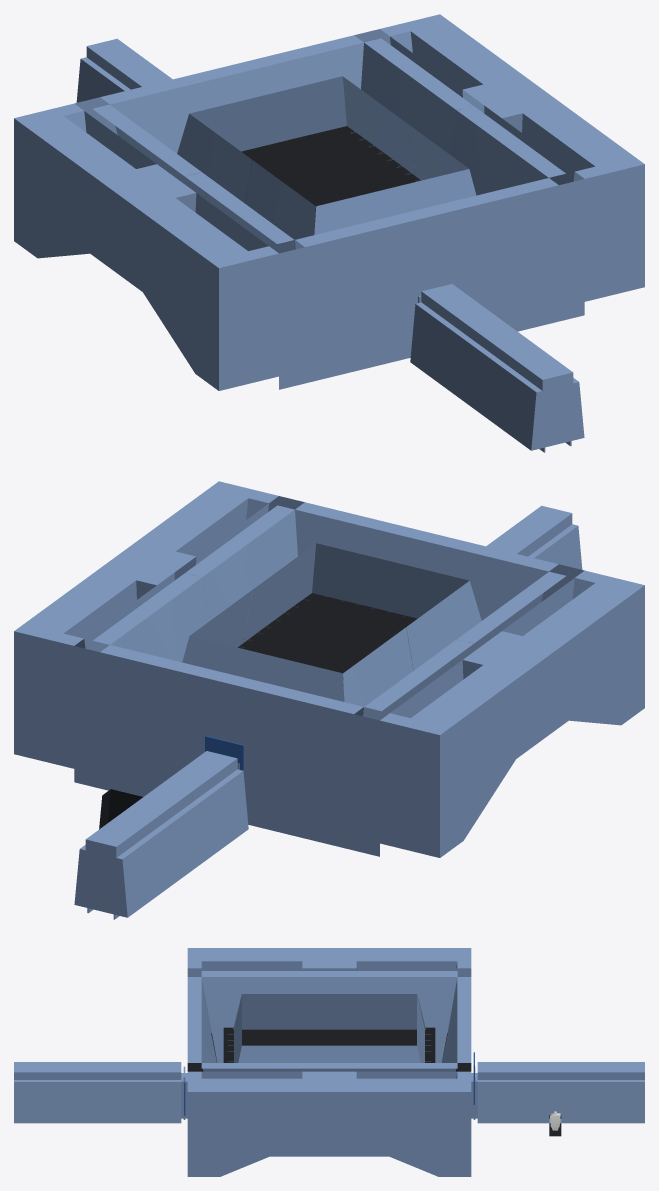
File: game_level_test_05cut.FBX
3 views of the same model, one above another, from view 1: azimuth 30°, elevation 25°; view 2: azimuth 150°, elevation 25°; view 3: azimuth 270°, elevation 25° (orthographic). The views are drawn at different scales.
Parts seen in each view (by area): view 1: Object290, Object292, Object288, Object267, Object250, Object270, Cylinder021, Object273, Object230, Object271, Object272, Object224 (+6 smaller); view 2: Object289, Object292, Object288, Object224, Object273, Object230, Cylinder021, Object267, Object270, Object272, Object271, Object250 (+7 smaller); view 3: Object291, Object250, Object224, Object288, Object271, Object272, Cylinder021, Object270, Object230, Object273, Object267, Object286 (+7 smaller).
Part boxes in pixels (box(x1,y1,x2,y2)): Object290: box(219, 164, 644, 390); Object292: box(14, 118, 218, 390); Object288: box(14, 14, 644, 267); Object267: box(100, 35, 363, 153); Object250: box(410, 284, 584, 452); Object270: box(342, 38, 473, 175); Cylinder021: box(243, 128, 415, 227); Object273: box(295, 169, 558, 249); Object230: box(406, 106, 565, 195); Object271: box(92, 104, 252, 203); Object272: box(185, 160, 315, 253); Object224: box(76, 38, 172, 102); Object289: box(14, 631, 439, 857); Object292: box(440, 585, 644, 857); Object288: box(14, 481, 644, 734); Object224: box(74, 751, 248, 919); Object273: box(295, 502, 558, 620); Object230: box(185, 505, 316, 642); Cylinder021: box(243, 595, 415, 684); Object267: box(100, 636, 363, 716); Object270: box(93, 573, 252, 662); Object272: box(406, 571, 565, 670); Object271: box(343, 627, 473, 720); Object250: box(486, 505, 582, 569); Object291: box(187, 1092, 471, 1176); Object250: box(14, 1062, 187, 1123); Object224: box(471, 1062, 644, 1136); Object288: box(187, 948, 471, 1091); Object271: box(329, 971, 457, 1036); Object272: box(201, 971, 329, 1036); Cylinder021: box(242, 1030, 416, 1045); Object270: box(329, 1045, 457, 1071); Object230: box(201, 1045, 329, 1071); Object273: box(187, 977, 241, 1062); Object267: box(417, 977, 471, 1062); Object286: box(201, 961, 302, 970).
Bounding box in the file's own units: 11477 × 21273 × 3640.
